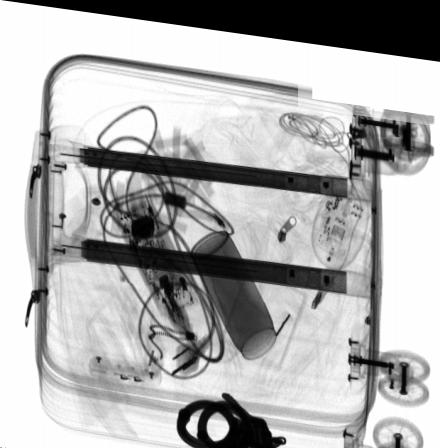HandCuffs: (176, 384, 287, 448)
